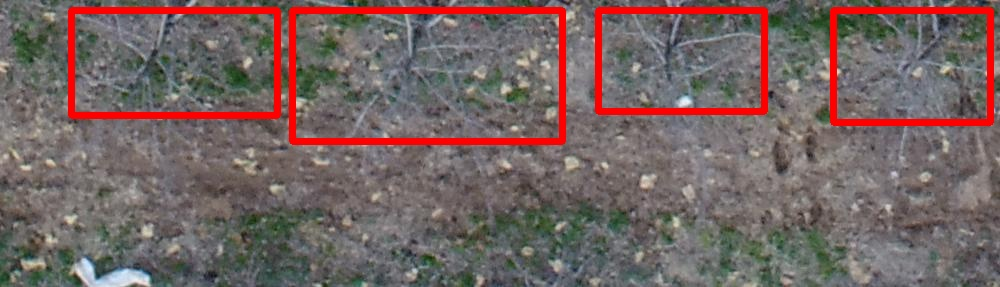apple: (292, 10, 562, 141), (71, 10, 277, 115), (833, 10, 990, 122), (598, 10, 764, 111)
